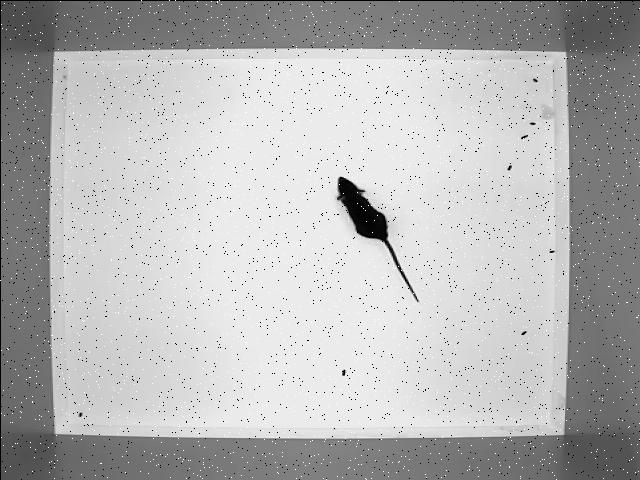Tikus: (336, 175, 418, 303)
